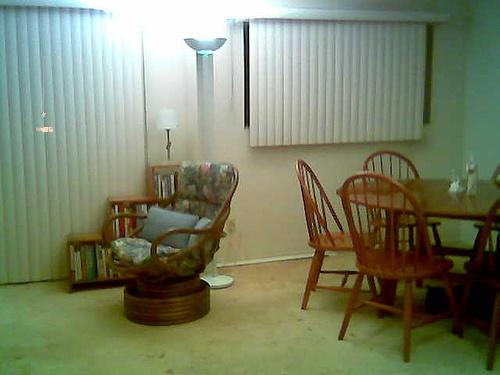tampered: (37, 55, 53, 132)
